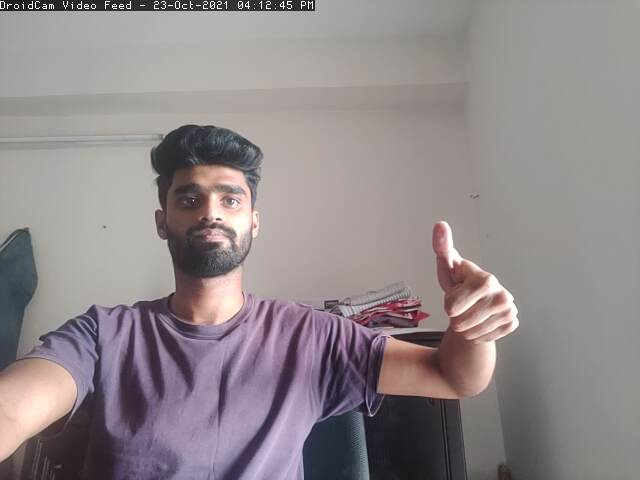ThumbsUp: (423, 217, 521, 342)
